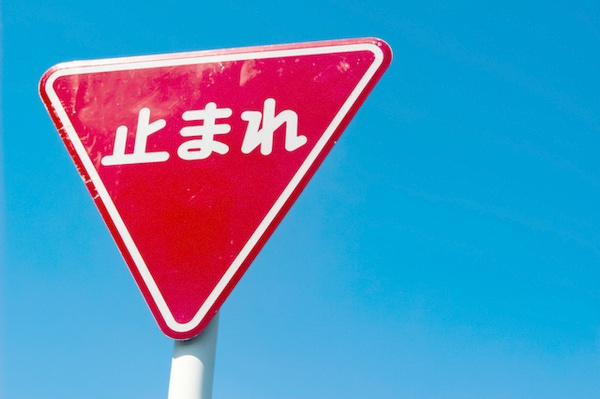Regulatory_sign_triangle: (34, 24, 399, 349)
